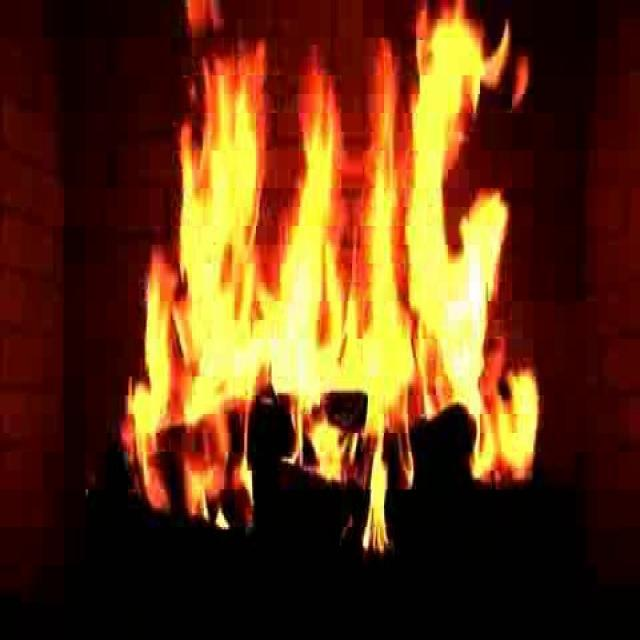Fire: (144, 24, 538, 486)
